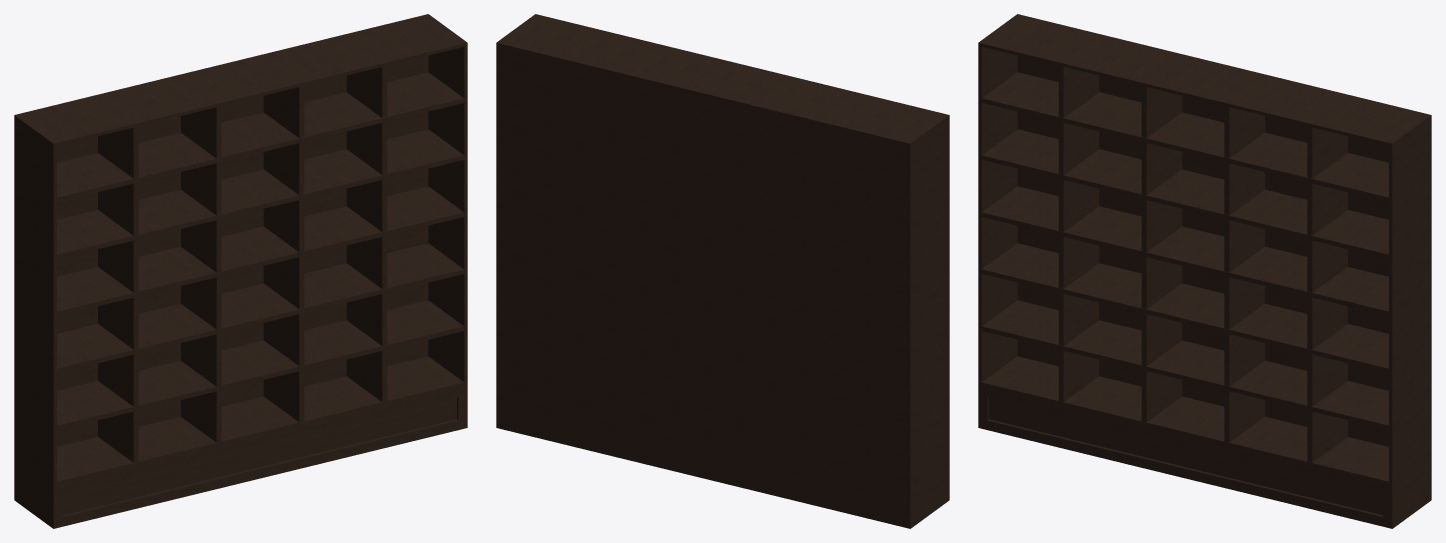
File: shelfMediumEmpty.glb
3 renders of one model, left to right at view 1: azimuth 30°, elevation 25°; view 2: azimuth 150°, elevation 25°; view 3: azimuth 330°, elevation 25°, orthographic.
Parts seen in each view (by area): view 1: ShelfMediumEmpty; view 2: ShelfMediumEmpty; view 3: ShelfMediumEmpty.
Boxes of the visible parts, left/top/right/bottom form: ShelfMediumEmpty: left=14, top=14, right=467, bottom=528; ShelfMediumEmpty: left=496, top=14, right=949, bottom=528; ShelfMediumEmpty: left=978, top=14, right=1431, bottom=528.
Size of what is drawn, in the model's own units: 6.02 by 5.35 by 0.9891.
1 material, 1 textured.
